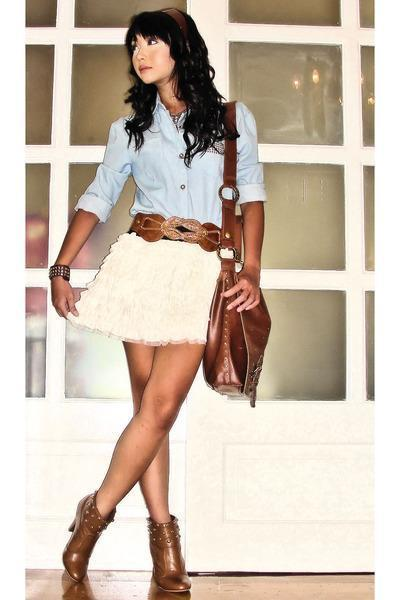bag: (198, 97, 270, 407)
shirt: (74, 98, 264, 227)
shoe: (62, 492, 213, 599)
skirt: (75, 232, 220, 347)
